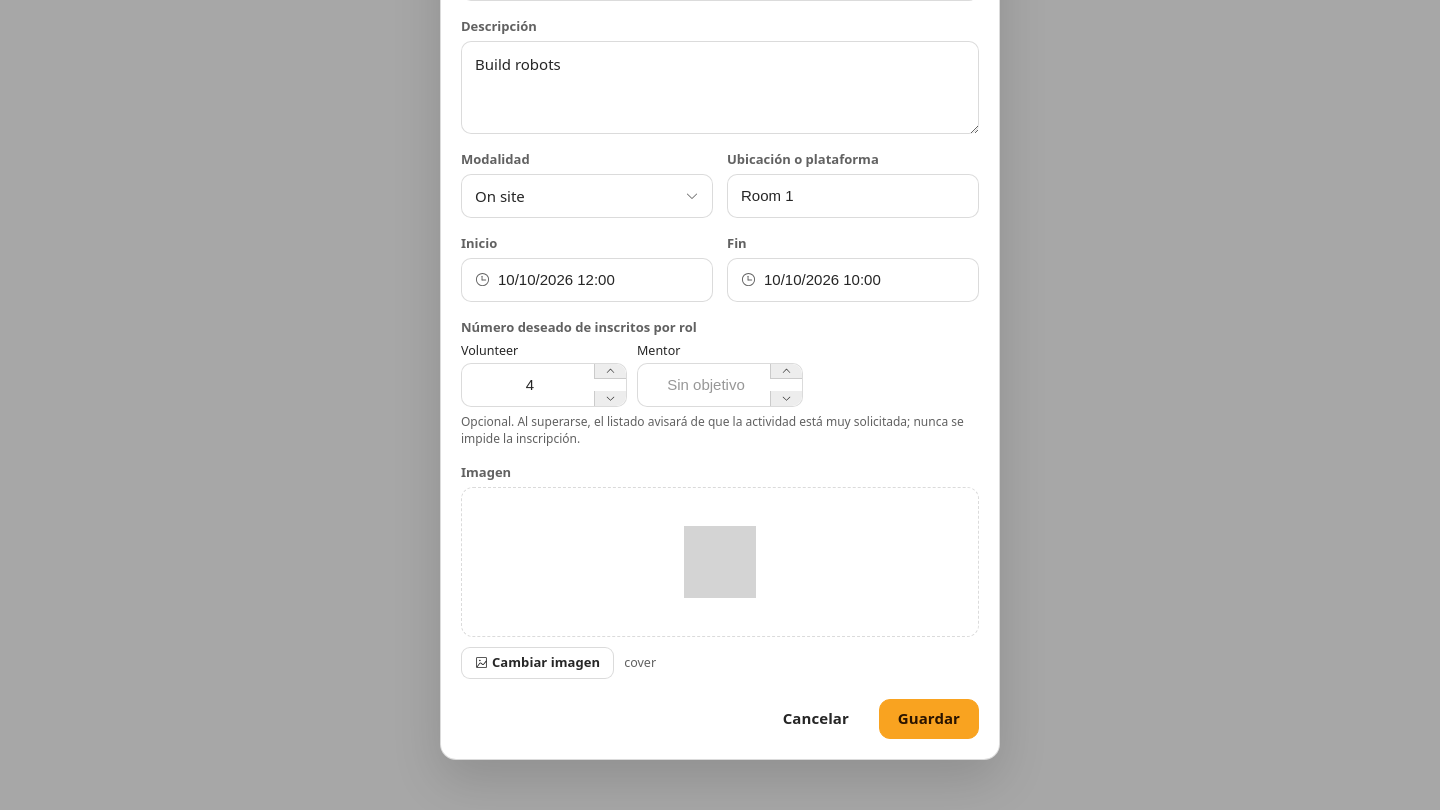
ActivityFormDialog › rejects an end before the start and a schedule outside the event days
This screenshot has width=1440, height=810.
(page scrolled)
Click the button "Guardar".
click(929, 718)  # box [879,698,979,738]
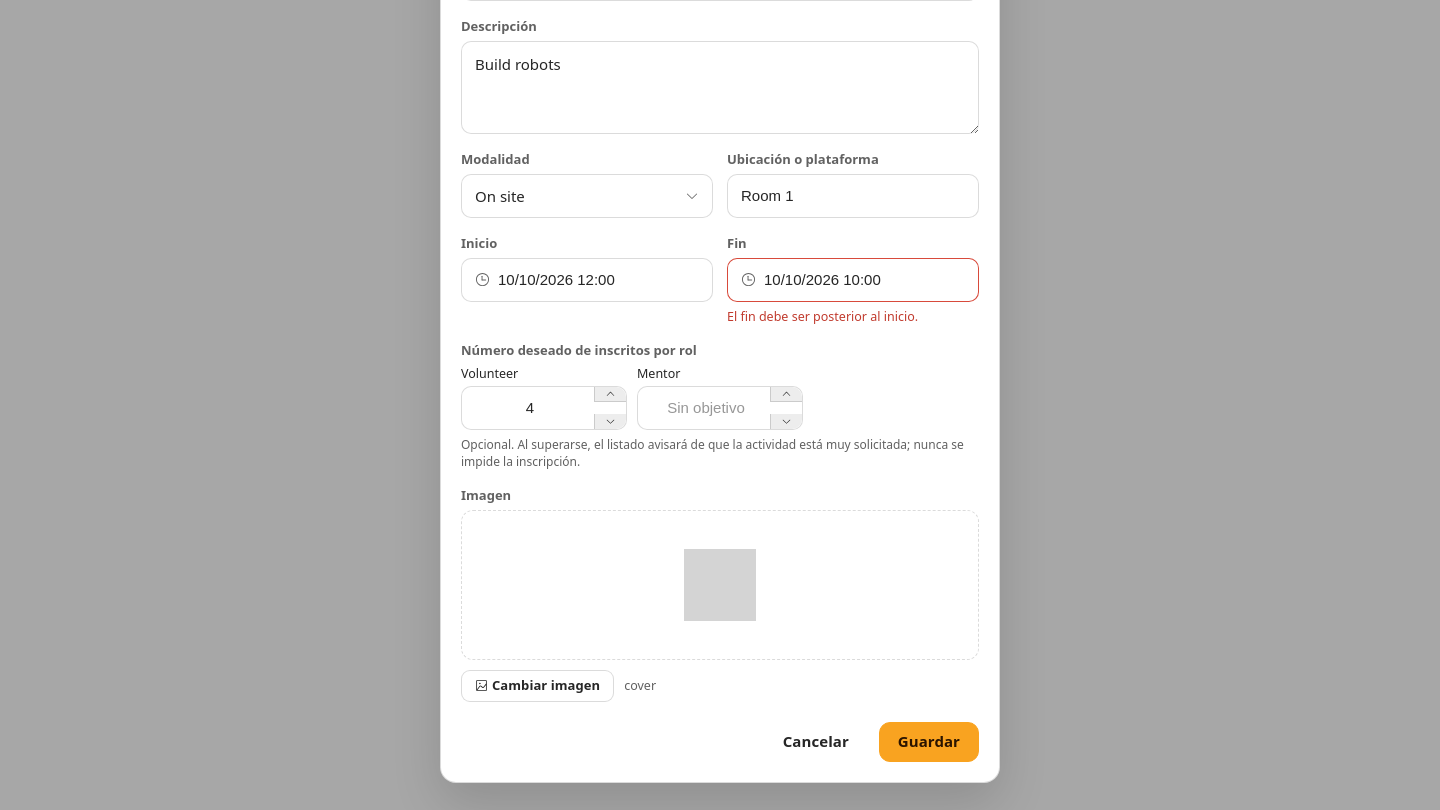
Expected: the text "El fin debe ser posterior al inicio." is shown, [727,308,918,324]
